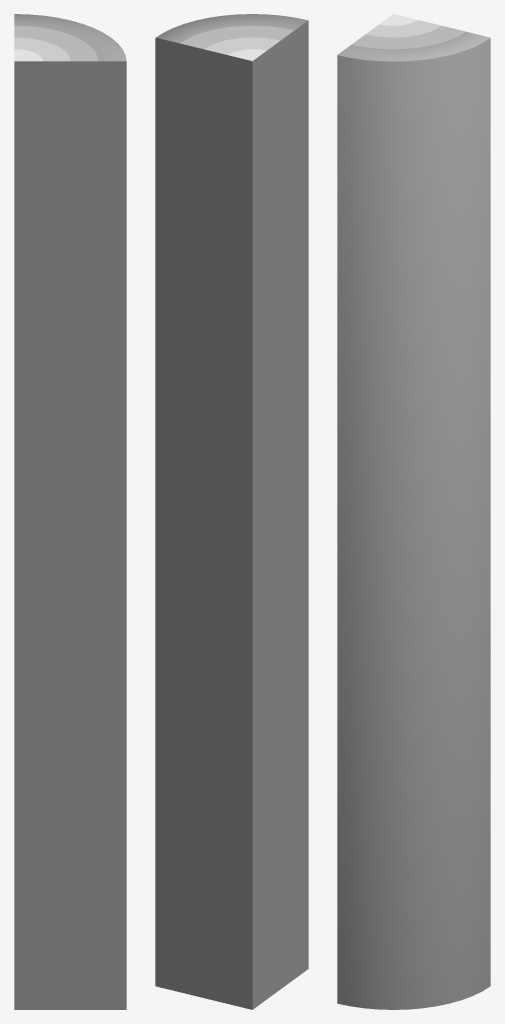
Rendered from road_turn_0_right.FBX.
The picture shows the model from 3 angles, left to right: view 1: azimuth 90°, elevation 25°; view 2: azimuth 150°, elevation 25°; view 3: azimuth 330°, elevation 25°; orthographic projection.
Parts seen in each view (by area): view 1: road_turn_0_right; view 2: road_turn_0_right; view 3: road_turn_0_right.
Boxes of the visible parts, box(x1,y1,x2,y2) form: road_turn_0_right: box(14, 14, 126, 1009); road_turn_0_right: box(155, 14, 308, 1009); road_turn_0_right: box(337, 14, 490, 1009).
Size of the model in its own units: 12 by 112 by 12.
Materials: 1 (1 with a texture image).
